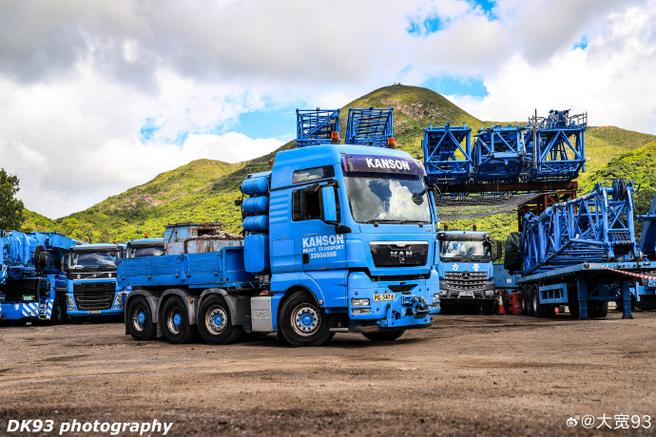卡车: (102, 137, 452, 354)
